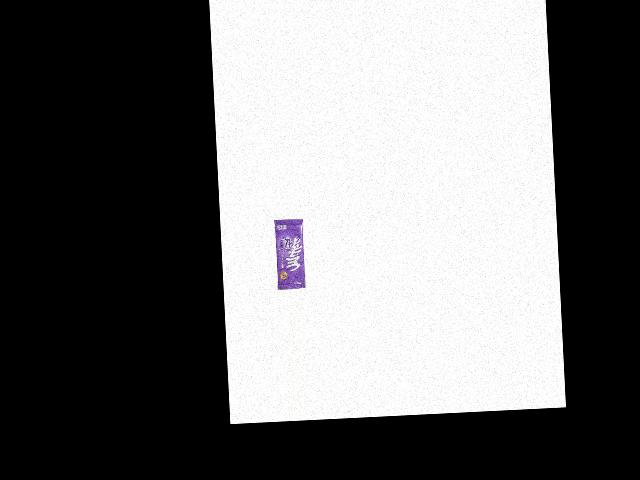chocolate: (270, 214, 307, 290)
